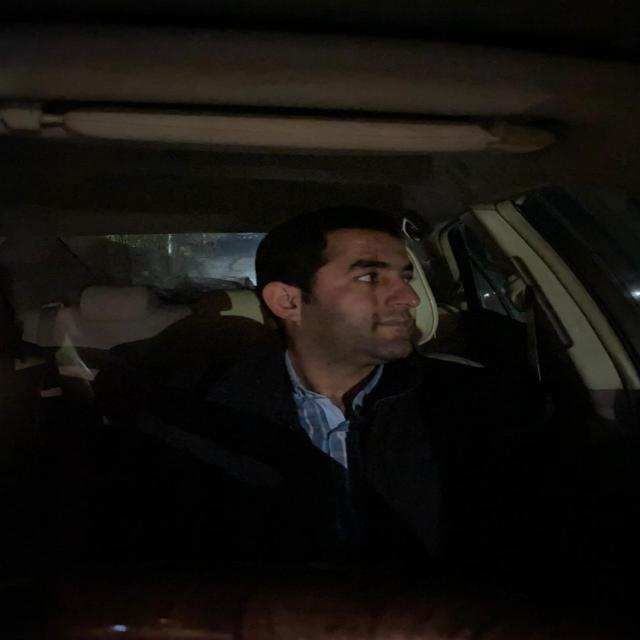LeftRight: (262, 223, 440, 360)
